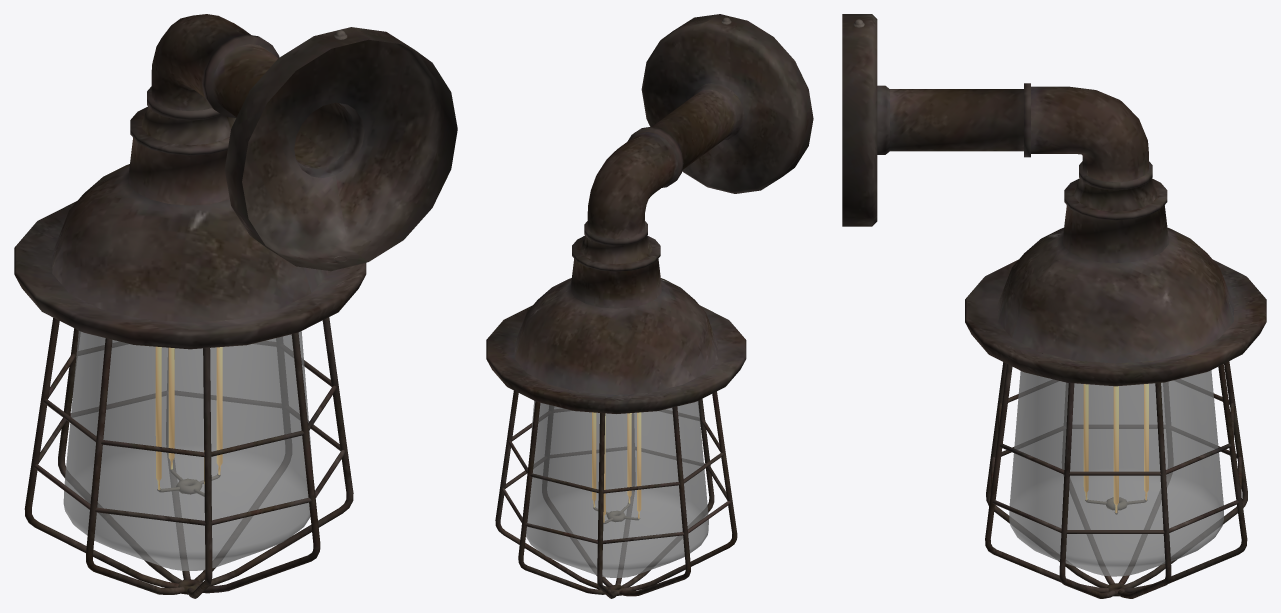
File: wall-lantern.glb
3 renders of one model, left to right at view 1: azimuth 30°, elevation 25°; view 2: azimuth 150°, elevation 25°; view 3: azimuth 270°, elevation 25°, orthographic. The views are drawn at different scales.
Visible parts, largest first — view 1: defaultMaterial (×3); view 2: defaultMaterial (×3); view 3: defaultMaterial (×3).
Part boxes in pixels (x1=…): defaultMaterial (×3): x1=14, y1=14, x2=457, y2=598; defaultMaterial (×3): x1=486, y1=14, x2=813, y2=598; defaultMaterial (×3): x1=842, y1=14, x2=1266, y2=598.
Size of the model in its own units: 0.4999 by 1.03 by 0.6923.
3 materials, 1 textured.
